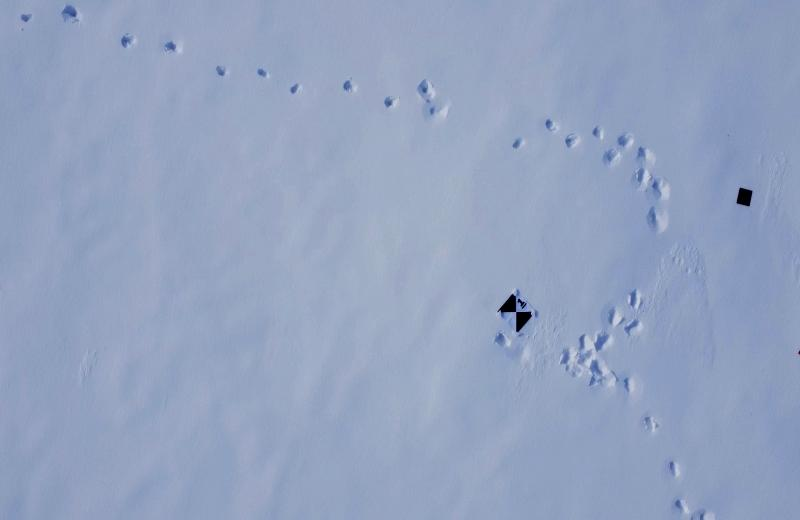Square: (734, 186, 755, 210)
